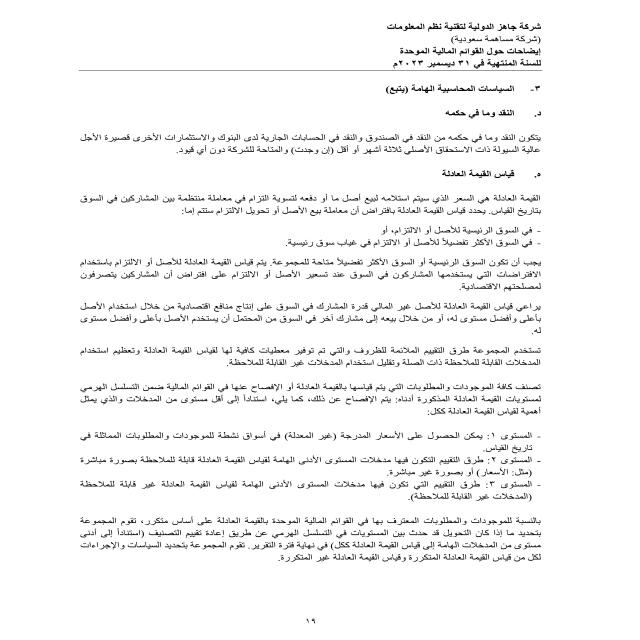notes: (381, 46, 547, 55)
text: (47, 107, 549, 576)
